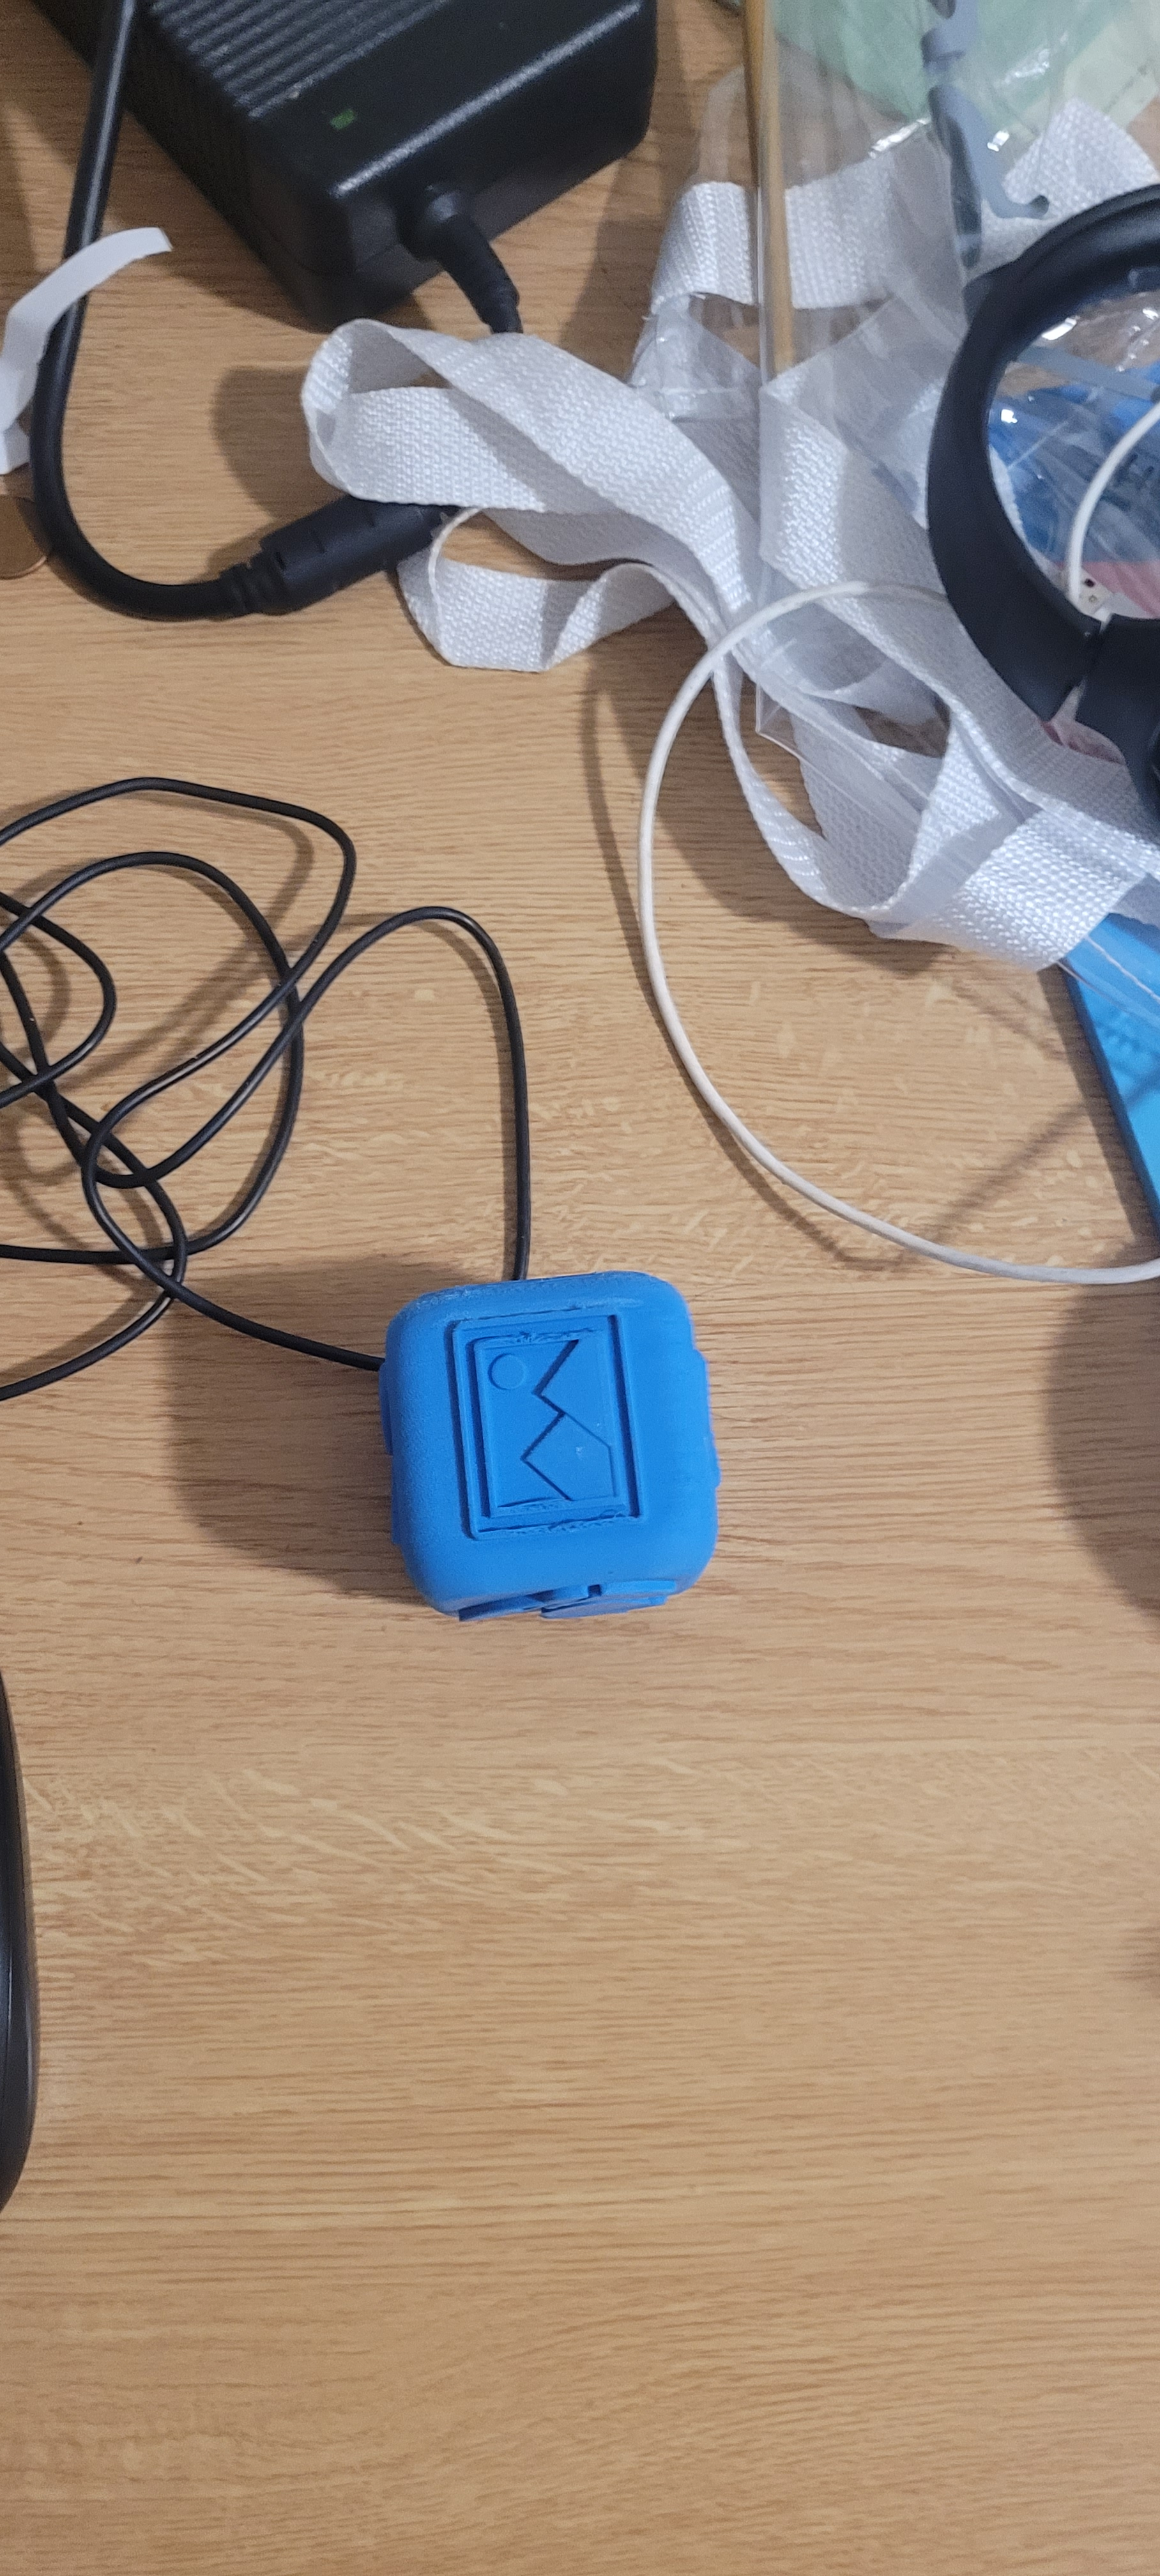Story: (414, 1308, 669, 1543)
